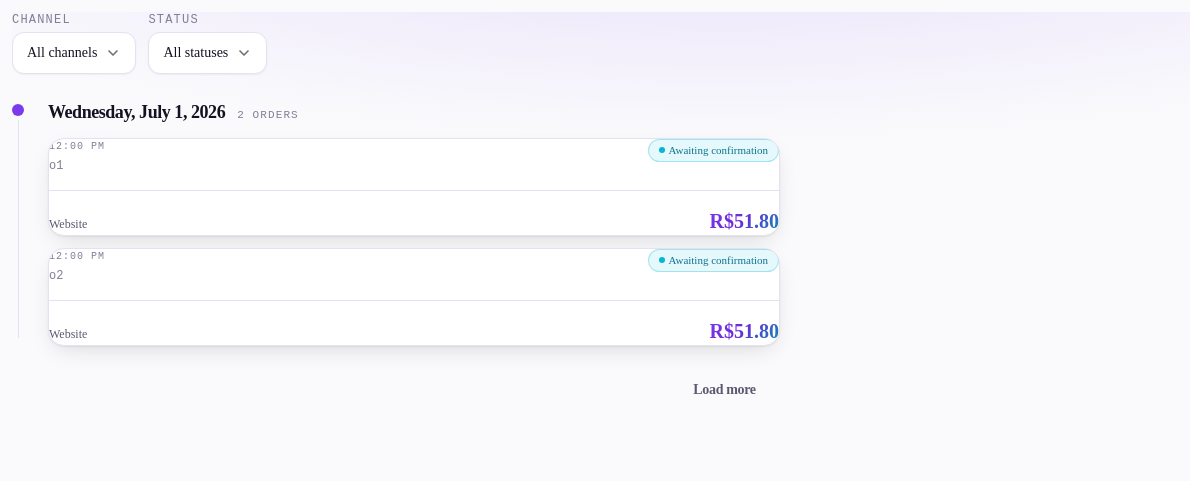
Test: MyOrdersList › loads and appends the next page, de-duplicating ids
Click the button "Load more": click(724, 390) 677,370 -> 772,410
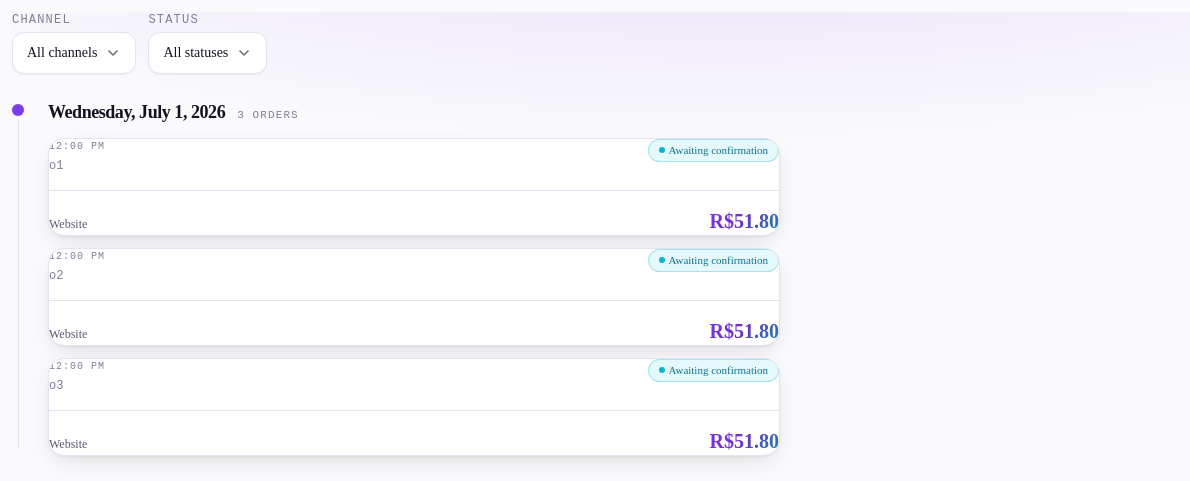
Expected: the text "o2" is shown once, 49,269 -> 63,283
Now the text "o3" is shown, box 49,379 -> 63,393
Now the number of links is 3, box 49,139 -> 779,235; 49,249 -> 779,345; 49,359 -> 779,455
